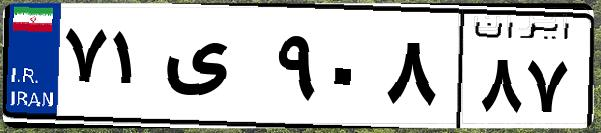0: (330, 28, 385, 110)
1: (110, 28, 158, 98)
7: (57, 26, 110, 100), (525, 38, 570, 115)
8: (385, 28, 445, 110), (475, 38, 525, 113)
9: (270, 28, 330, 110)
ی: (158, 20, 270, 120)
